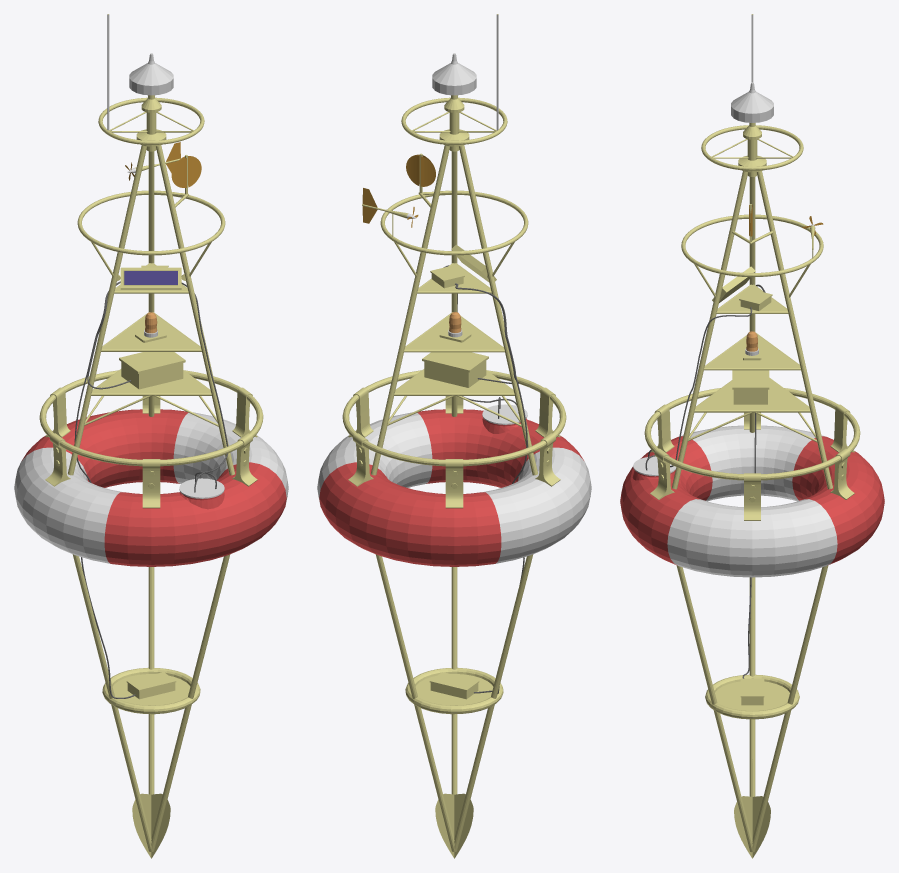
Rendered from bouy.dae.
3 renders of one model, left to right at view 1: azimuth 30°, elevation 25°; view 2: azimuth 150°, elevation 25°; view 3: azimuth 270°, elevation 25°, orthographic. The views are drawn at different scales.
Visible parts, largest first — view 1: Floater; view 2: Floater; view 3: Floater.
Boxes of the visible parts, left/top/right/bottom form: Floater: left=14, top=14, right=288, bottom=858; Floater: left=317, top=14, right=591, bottom=858; Floater: left=620, top=14, right=884, bottom=858.
Bounding box in the file's own units: 0.7732 × 0.7732 × 2.66.
